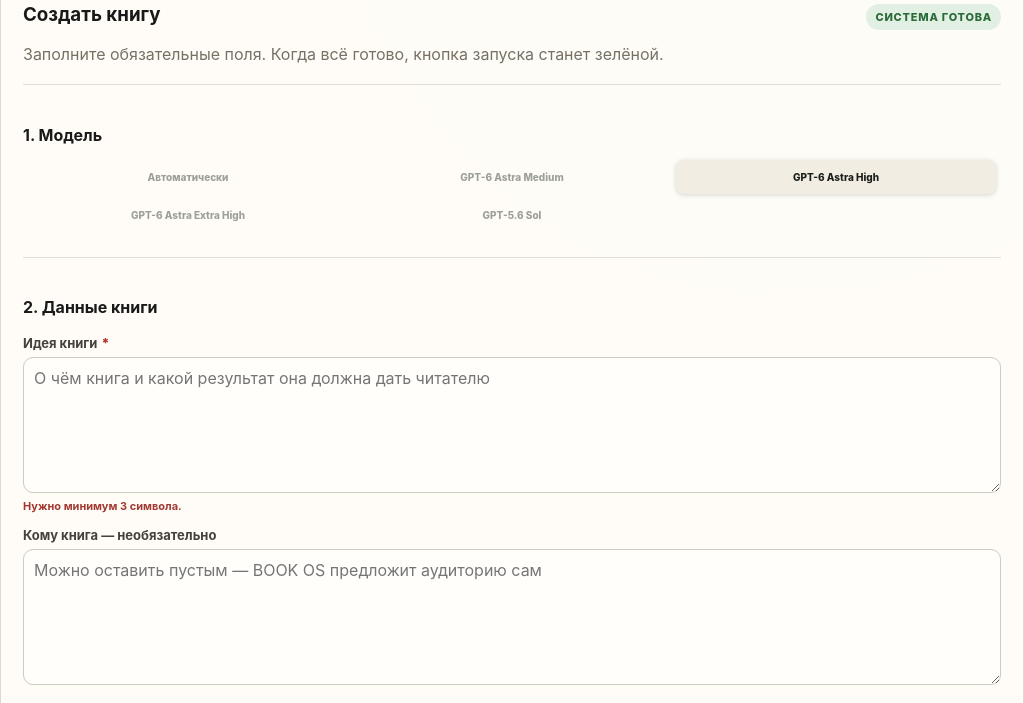
Scenario: shows the real 4000-character minimum and refuses 1800 characters
Expected: the text "СИСТЕМА ГОТОВА" is shown, [866, 4, 1001, 30]
Type "Проверка минимального объёма." into the text box labelled "Идея книги * Нужно минимум 3 символа." at (512, 425), box [23, 357, 1001, 493]
(page scrolled)
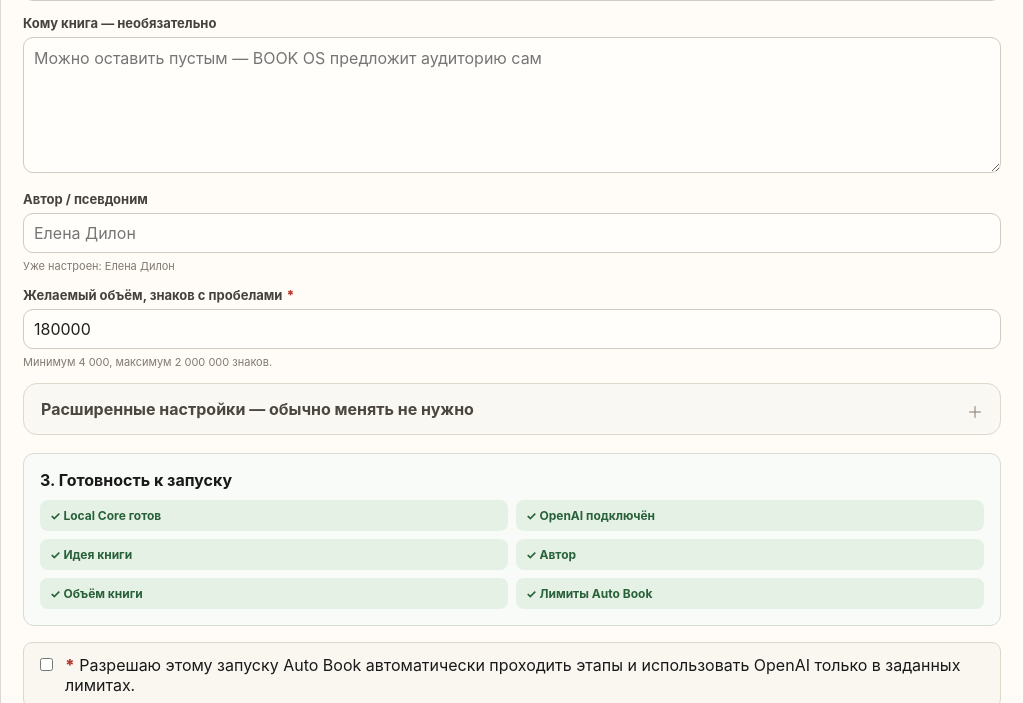
Replace the text in the field labelled "Желаемый объём" with "1800" at (512, 329), box [23, 309, 1001, 349]
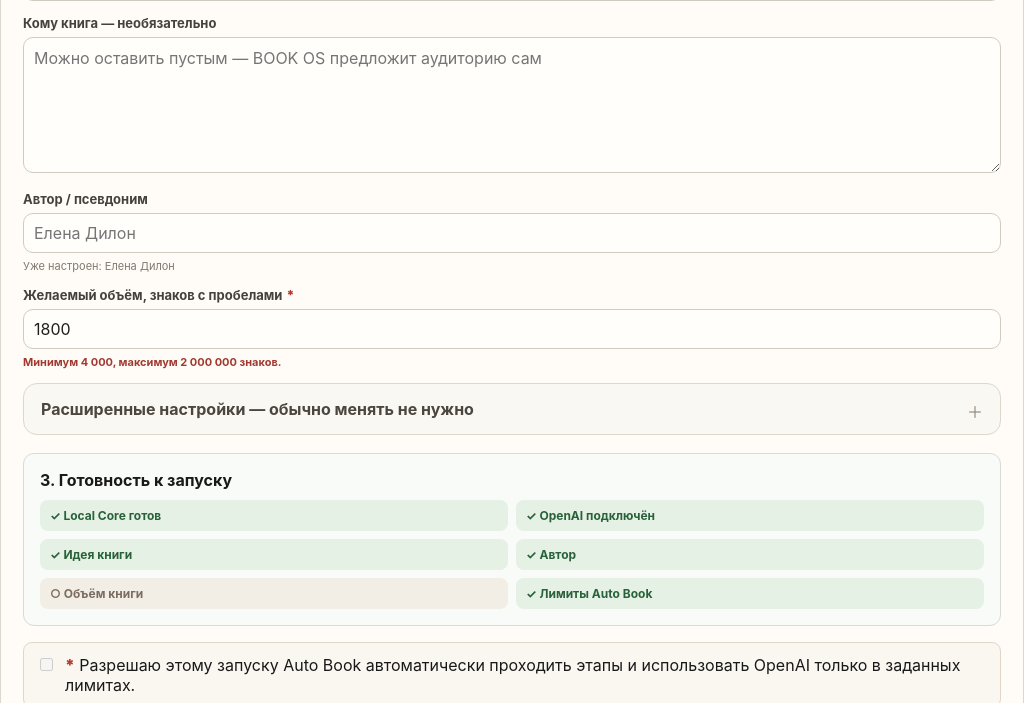
Expected: the text "○ Объём книги" is shown, [40, 578, 508, 609]
